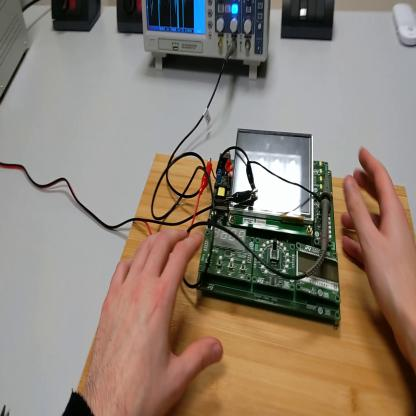hand: (80, 223, 225, 415), (340, 147, 416, 361)
low voltage board: (197, 126, 342, 325)
oscilloscope: (143, 2, 272, 80)
oscilloscope probe tip: (319, 167, 333, 262)
power supply: (1, 3, 30, 102)
socket: (52, 1, 104, 34), (118, 2, 143, 37)
working area: (79, 153, 416, 416)
